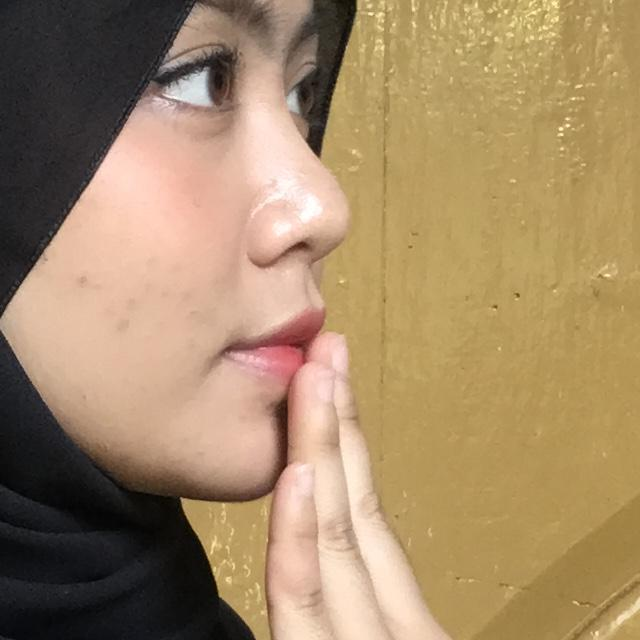ganteng: (150, 276, 580, 640)
